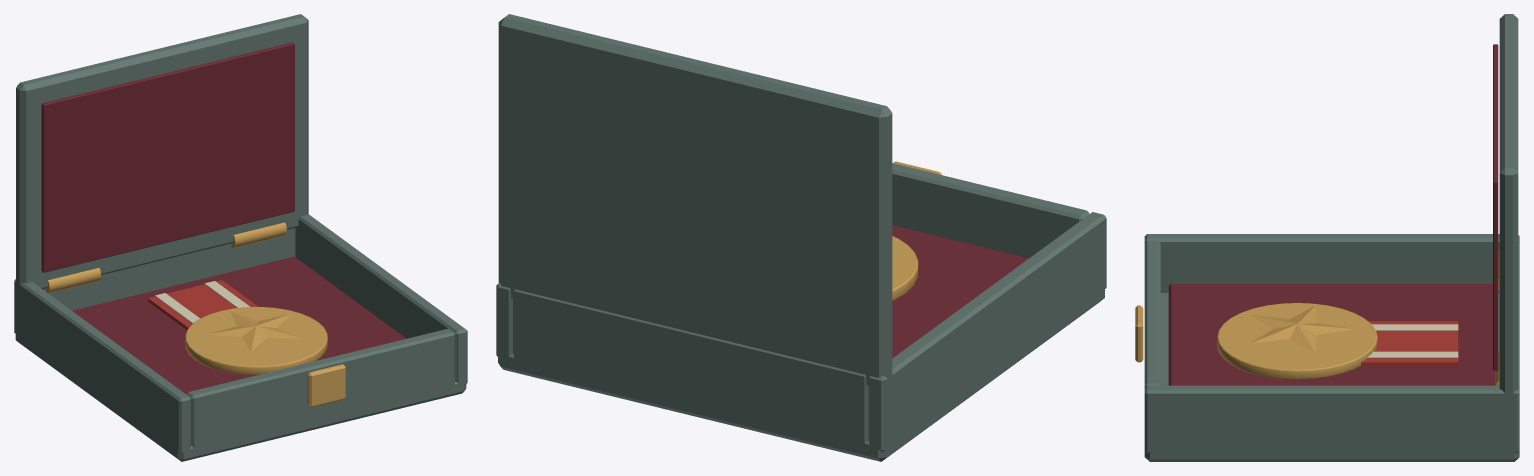
Rendered from medal_case.glb.
3 views of the same model, side by side, from view 1: azimuth 30°, elevation 25°; view 2: azimuth 150°, elevation 25°; view 3: azimuth 270°, elevation 25° (orthographic). The views are drawn at different scales.
Visible parts, largest first — view 1: LidLining, Lid, Lining, Front, SideL, SideR, Medal, Back, CaseFloor, Ribbon, MedalStar, FrontClasp (+2 smaller); view 2: Lid, Back, SideL, Front, Lining, CaseFloor, Medal, SideR; view 3: SideR, Lining, SideL, Medal, Lid, CaseFloor, Ribbon, Front, LidLining, MedalStar, RibbonStripe.001, RibbonStripe (+1 smaller).
Part boxes in pixels (x1,y1,x2,y2): LidLining: (41,42,294,272); Lid: (16,14,308,290); Lining: (72,256,406,394); Front: (186,328,455,449); SideL: (14,279,190,454); SideR: (295,214,467,385); Medal: (185,307,327,374); Back: (43,228,295,310); CaseFloor: (15,333,466,461); Ribbon: (148,280,258,329); MedalStar: (206,311,303,351); FrontClasp: (307,364,345,407); Lid: (498,14,892,386); Back: (513,289,868,446); SideL: (868,212,1106,451); Front: (892,163,1089,258); Lining: (892,225,1028,358); CaseFloor: (498,288,1104,461); Medal: (892,236,918,301); SideR: (496,283,512,359); SideR: (1144,385,1519,453); Lining: (1168,283,1495,385); SideL: (1144,234,1519,292); Medal: (1217,303,1377,379); Lid: (1499,14,1518,393); CaseFloor: (1144,293,1519,461); Ribbon: (1361,321,1458,365); Front: (1144,240,1160,387); LidLining: (1493,44,1498,370); MedalStar: (1250,305,1355,352); RibbonStripe.001: (1367,351,1458,357); RibbonStripe: (1372,324,1458,330).
Bounding box in the file's own units: 0.14 × 0.121 × 0.1435.
